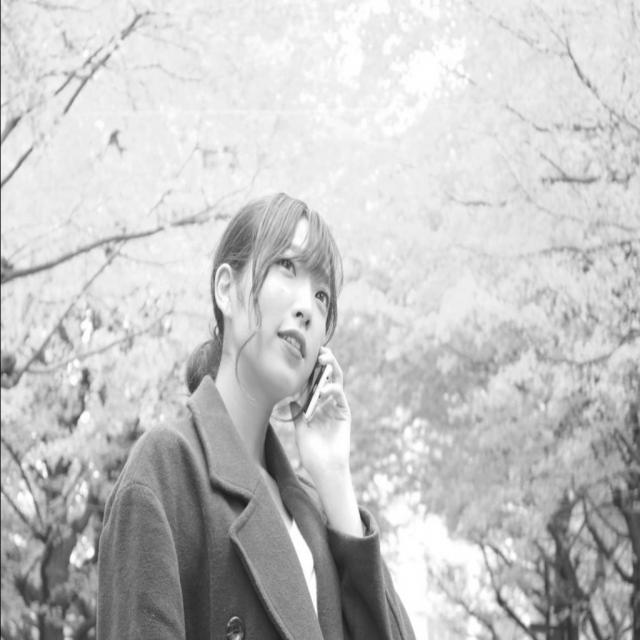phone: (279, 271, 352, 459)
